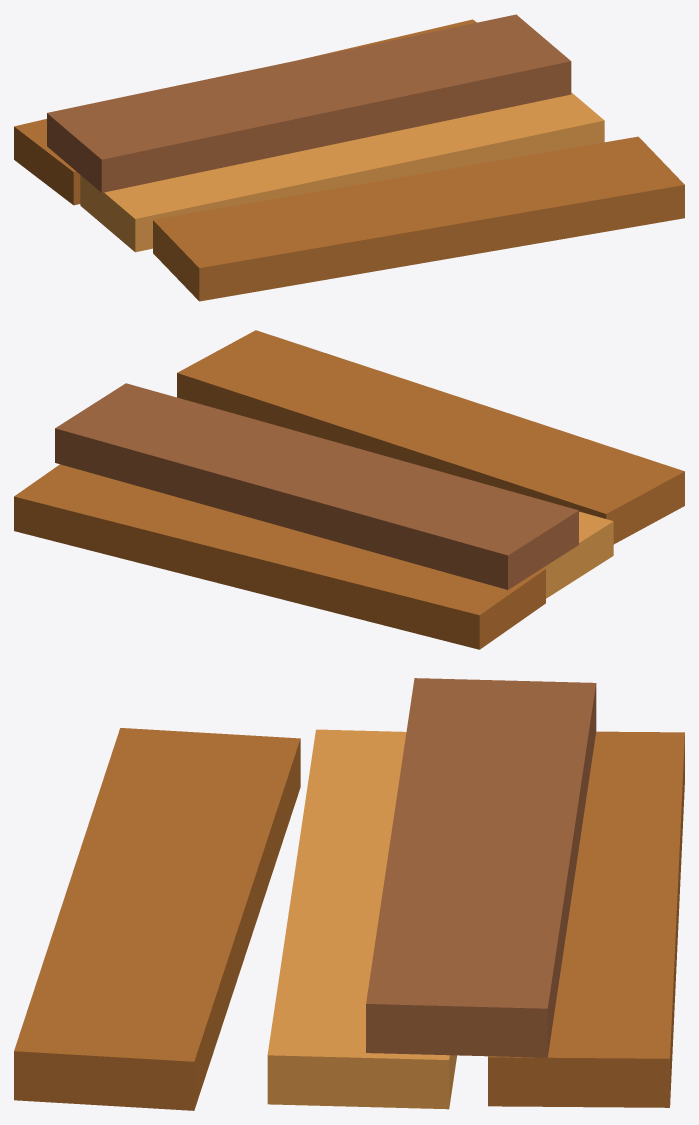
File: wood2.fbx
3 renders of one model, top to bottom at view 1: azimuth 30°, elevation 25°; view 2: azimuth 150°, elevation 25°; view 3: azimuth 270°, elevation 25°, orthographic. The views are drawn at different scales.
Visible parts, largest first — view 1: wood2; view 2: wood2; view 3: wood2.
Part boxes in pixels (box(x1,y1,x2,y2)): wood2: box(14, 14, 684, 301); wood2: box(14, 330, 684, 649); wood2: box(14, 678, 684, 1110).
Size of the model in its own units: 114 by 16.02 by 96.92.
